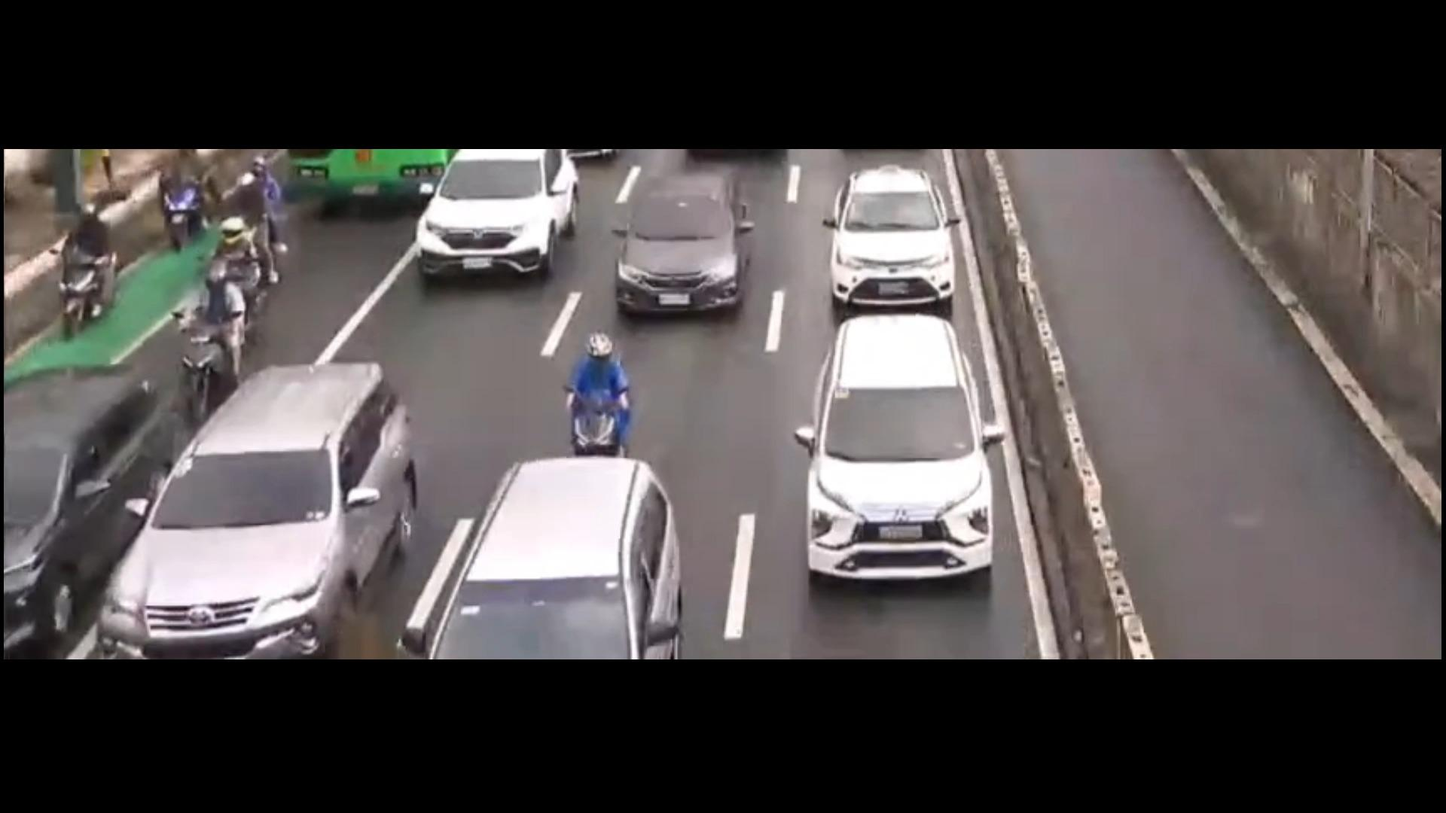Motorcycle: (40, 191, 127, 342), (174, 262, 251, 418), (557, 333, 635, 462), (202, 212, 274, 344), (212, 157, 286, 277)
SUV: (105, 363, 415, 658), (797, 313, 994, 576), (420, 464, 672, 657), (0, 362, 168, 646), (414, 147, 582, 274)
Sedan: (607, 173, 761, 316), (820, 165, 958, 305)
